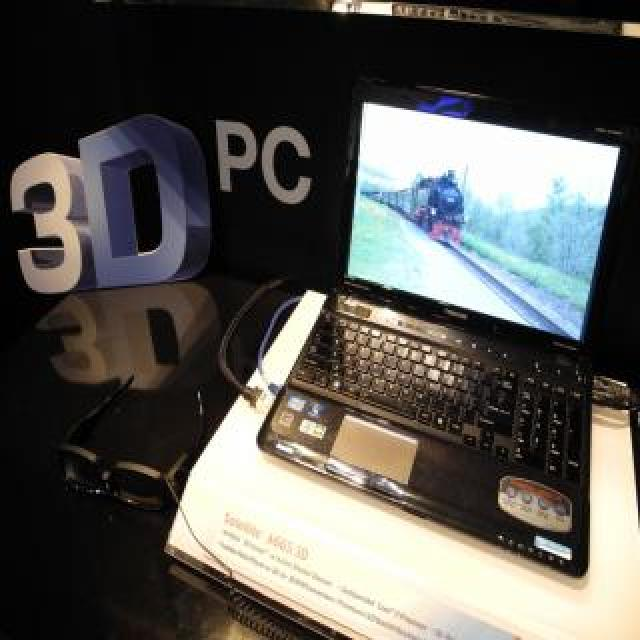laptop_computer: (306, 65, 592, 579)
